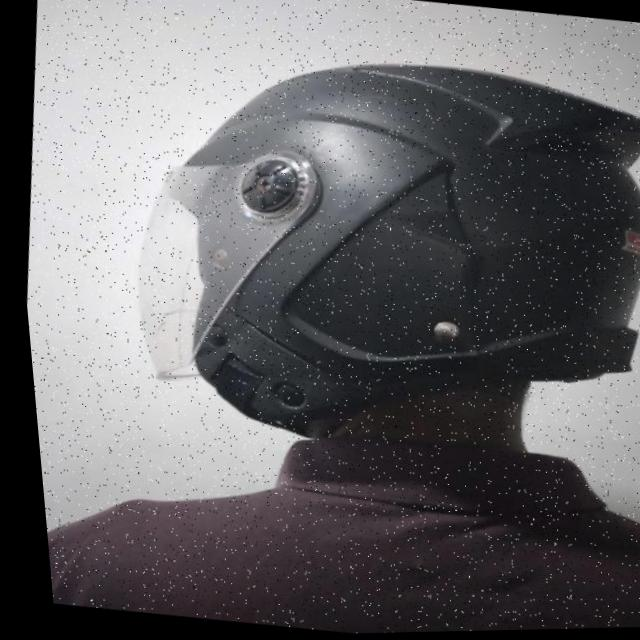helmet: (100, 27, 640, 490)
